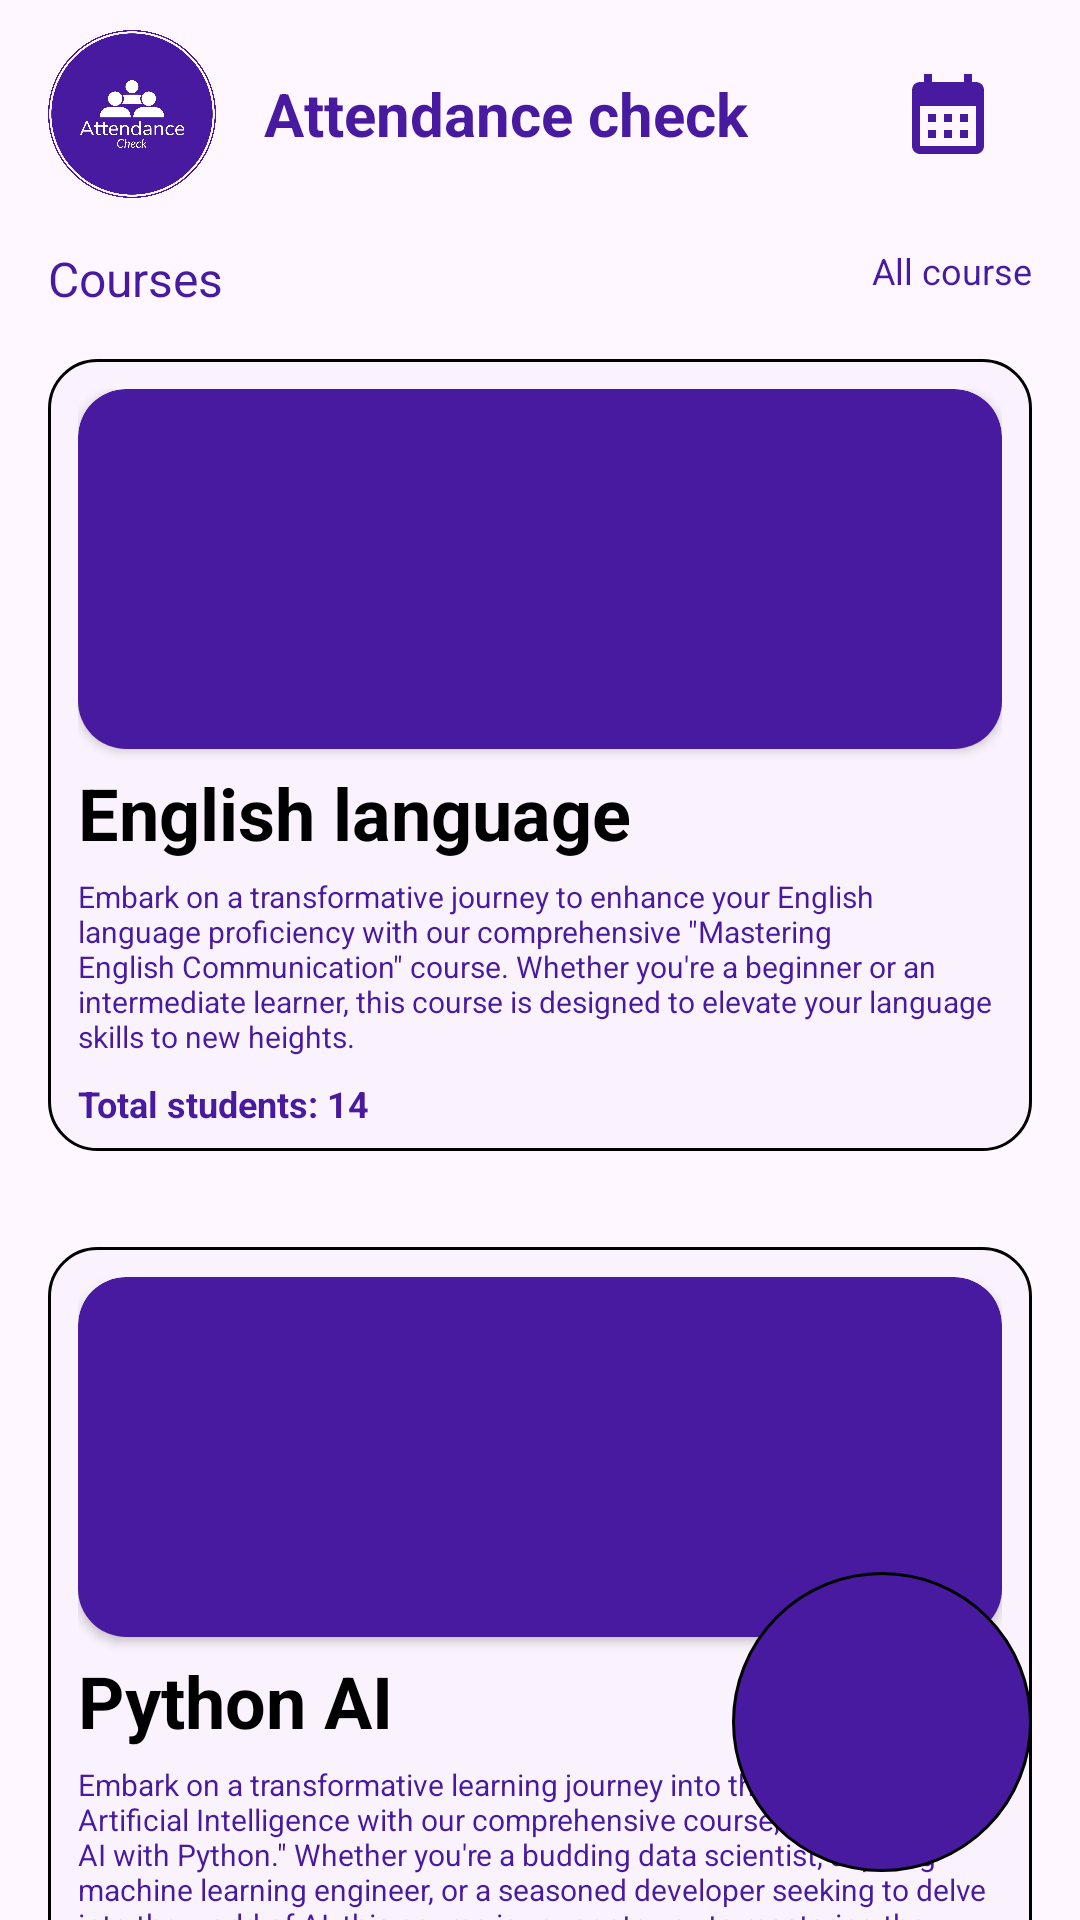

Named icons in this screenshot (1080 × 1920) and their bounding boxes, (x1, y1, x2, y2):
calendar month: (912, 74, 984, 154)
